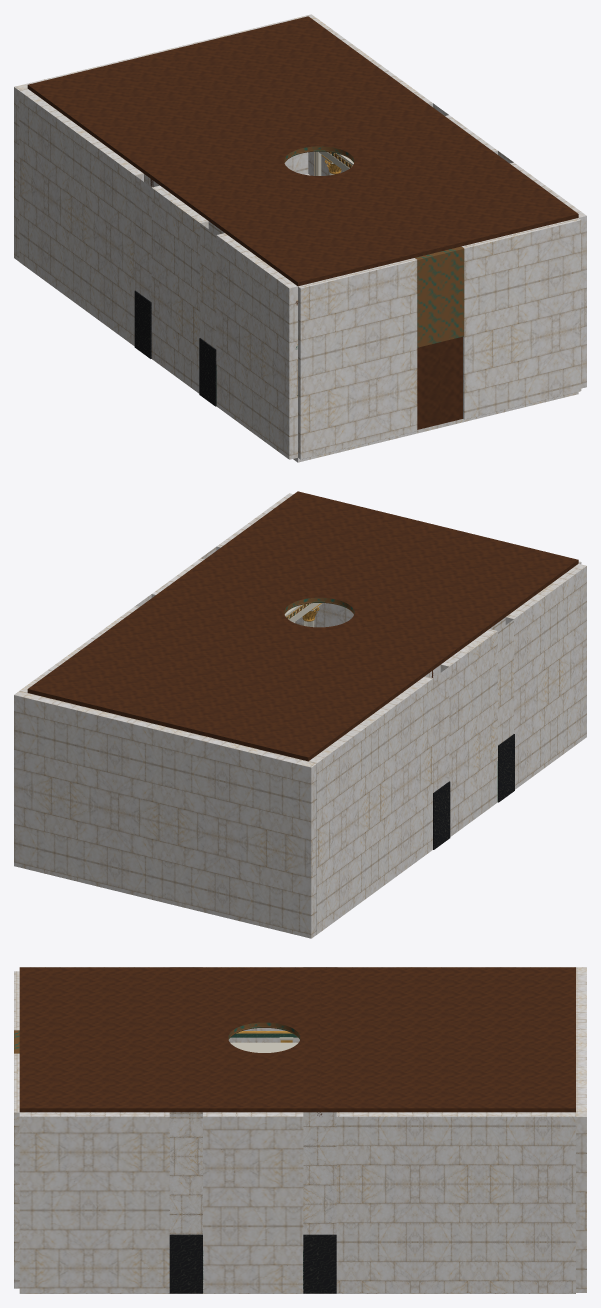
The model's file is sala-trono.glb.
3 views of the same model, one above another, from view 1: azimuth 30°, elevation 25°; view 2: azimuth 150°, elevation 25°; view 3: azimuth 270°, elevation 25° (orthographic). The views are drawn at different scales.
Visible parts, largest first — view 1: Teto_Painel_1-col, Teto_Painel_0-col, Wall_Side_-1_2-col, Wall_Entrance_-1-col, Wall_Entrance_1-col, Wall_Side_-1_0-col, Wall_Side_-1_1-col, Teto_Painel_2-col, Teto_Painel_3-col, Wall_Entrance_Lintel-col, Teto_Abertura-col, Nicho_Arqueado_-1_15-col (+7 smaller); view 2: Wall_Back_Closure-col, Teto_Painel_1-col, Teto_Painel_0-col, Wall_Side_-1_2-col, Wall_Side_-1_0-col, Wall_Side_-1_1-col, Teto_Painel_2-col, Teto_Painel_3-col, Teto_Abertura-col, Nicho_Arqueado_-1_27-col, Nicho_Arqueado_-1_15-col, Wall_Entrance_1-col (+1 smaller); view 3: Wall_Side_1_2-col, Teto_Painel_1-col, Teto_Painel_0-col, Wall_Side_1_0-col, Wall_Side_1_1-col, Nicho_Arqueado_1_15-col, Nicho_Arqueado_1_27-col, Teto_Painel_3-col, Teto_Painel_2-col, Teto_Abertura-col, Wall_Back_Closure-col, Wall_Entrance_1-col (+3 smaller).
Part boxes in pixels (left/top/right/bottom): Teto_Painel_1-col: left=27, top=16, right=432, bottom=179; Teto_Painel_0-col: left=206, top=147, right=578, bottom=286; Wall_Side_-1_2-col: left=19, top=88, right=143, bottom=346; Wall_Entrance_-1-col: left=298, top=258, right=417, bottom=459; Wall_Entrance_1-col: left=461, top=218, right=581, bottom=419; Wall_Side_-1_0-col: left=216, top=233, right=297, bottom=459; Wall_Side_-1_1-col: left=151, top=185, right=208, bottom=393; Teto_Painel_2-col: left=152, top=153, right=299, bottom=218; Teto_Painel_3-col: left=339, top=107, right=486, bottom=169; Wall_Entrance_Lintel-col: left=415, top=246, right=464, bottom=347; Teto_Abertura-col: left=246, top=130, right=392, bottom=192; Nicho_Arqueado_-1_15-col: left=199, top=221, right=224, bottom=406; Wall_Back_Closure-col: left=14, top=691, right=316, bottom=938; Teto_Painel_1-col: left=27, top=598, right=432, bottom=761; Teto_Painel_0-col: left=206, top=491, right=578, bottom=630; Wall_Side_-1_2-col: left=308, top=676, right=432, bottom=934; Wall_Side_-1_0-col: left=505, top=563, right=586, bottom=789; Wall_Side_-1_1-col: left=440, top=629, right=497, bottom=836; Teto_Painel_2-col: left=339, top=604, right=486, bottom=669; Teto_Painel_3-col: left=152, top=558, right=298, bottom=620; Teto_Abertura-col: left=246, top=581, right=392, bottom=643; Nicho_Arqueado_-1_27-col: left=425, top=665, right=450, bottom=849; Nicho_Arqueado_-1_15-col: left=490, top=617, right=514, bottom=802; Wall_Entrance_1-col: left=295, top=603, right=353, bottom=627; Wall_Side_1_2-col: left=336, top=1112, right=575, bottom=1292; Teto_Painel_1-col: left=320, top=967, right=575, bottom=1112; Teto_Painel_0-col: left=19, top=967, right=208, bottom=1112; Wall_Side_1_0-col: left=19, top=1112, right=169, bottom=1292; Wall_Side_1_1-col: left=203, top=1112, right=303, bottom=1292; Nicho_Arqueado_1_15-col: left=169, top=1112, right=203, bottom=1293; Nicho_Arqueado_1_27-col: left=303, top=1112, right=336, bottom=1293; Teto_Painel_3-col: left=208, top=1061, right=319, bottom=1112; Teto_Painel_2-col: left=208, top=967, right=319, bottom=1014; Teto_Abertura-col: left=208, top=1014, right=319, bottom=1061; Wall_Back_Closure-col: left=576, top=967, right=586, bottom=1292; Wall_Entrance_1-col: left=14, top=1053, right=19, bottom=1288.
Bounding box in the file's own units: 32 × 18.4 × 51.5.
Materials: 14 (10 with a texture image).
